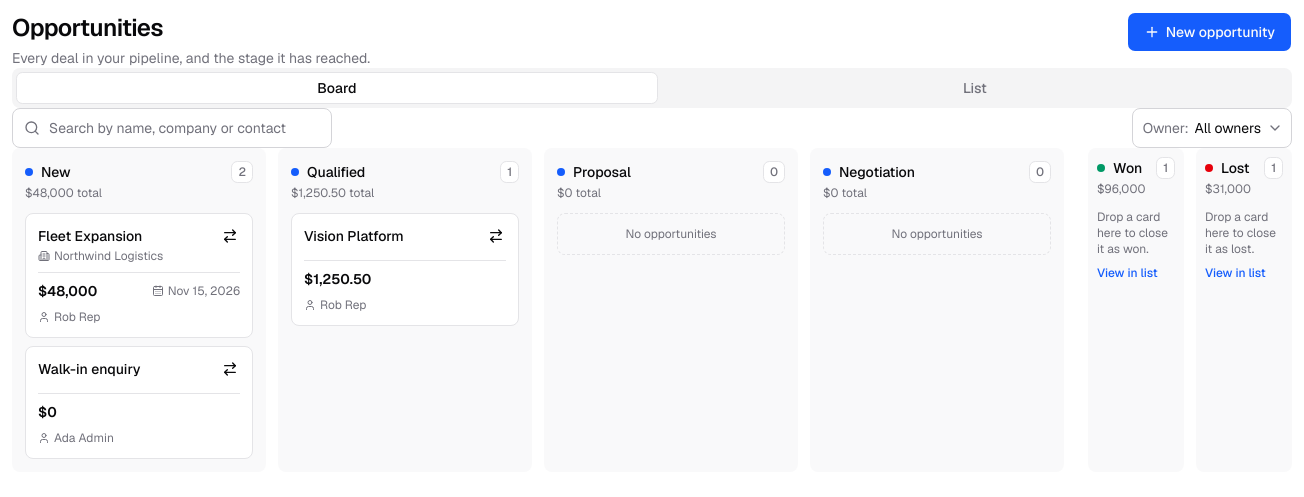
OpportunityBoard › moves a card from its menu at once, and confirms when the API has answered
Click the button named "Move Fleet Expansion to another stage" at (230, 236), box [214,220,246,252]
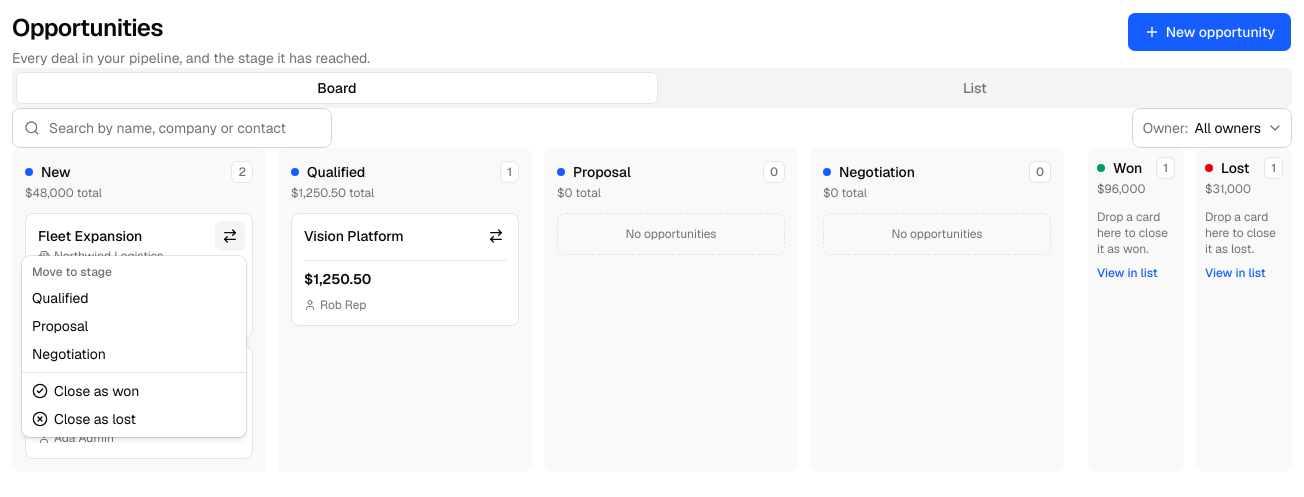
Expected: the menu items read "Qualified", "Proposal", "Negotiation", "Close as won", "Close as lost", in this order
Click the menu item "Proposal" at (60, 326), box [32,317,88,335]
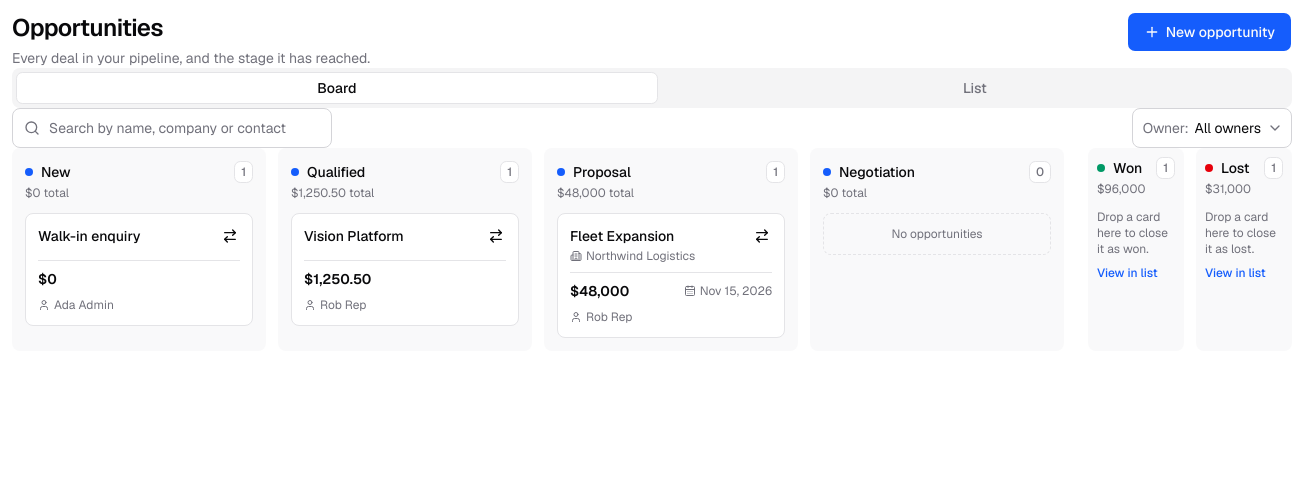
Expected: the text named "1 opportunities" is shown, [766,161,785,183]
